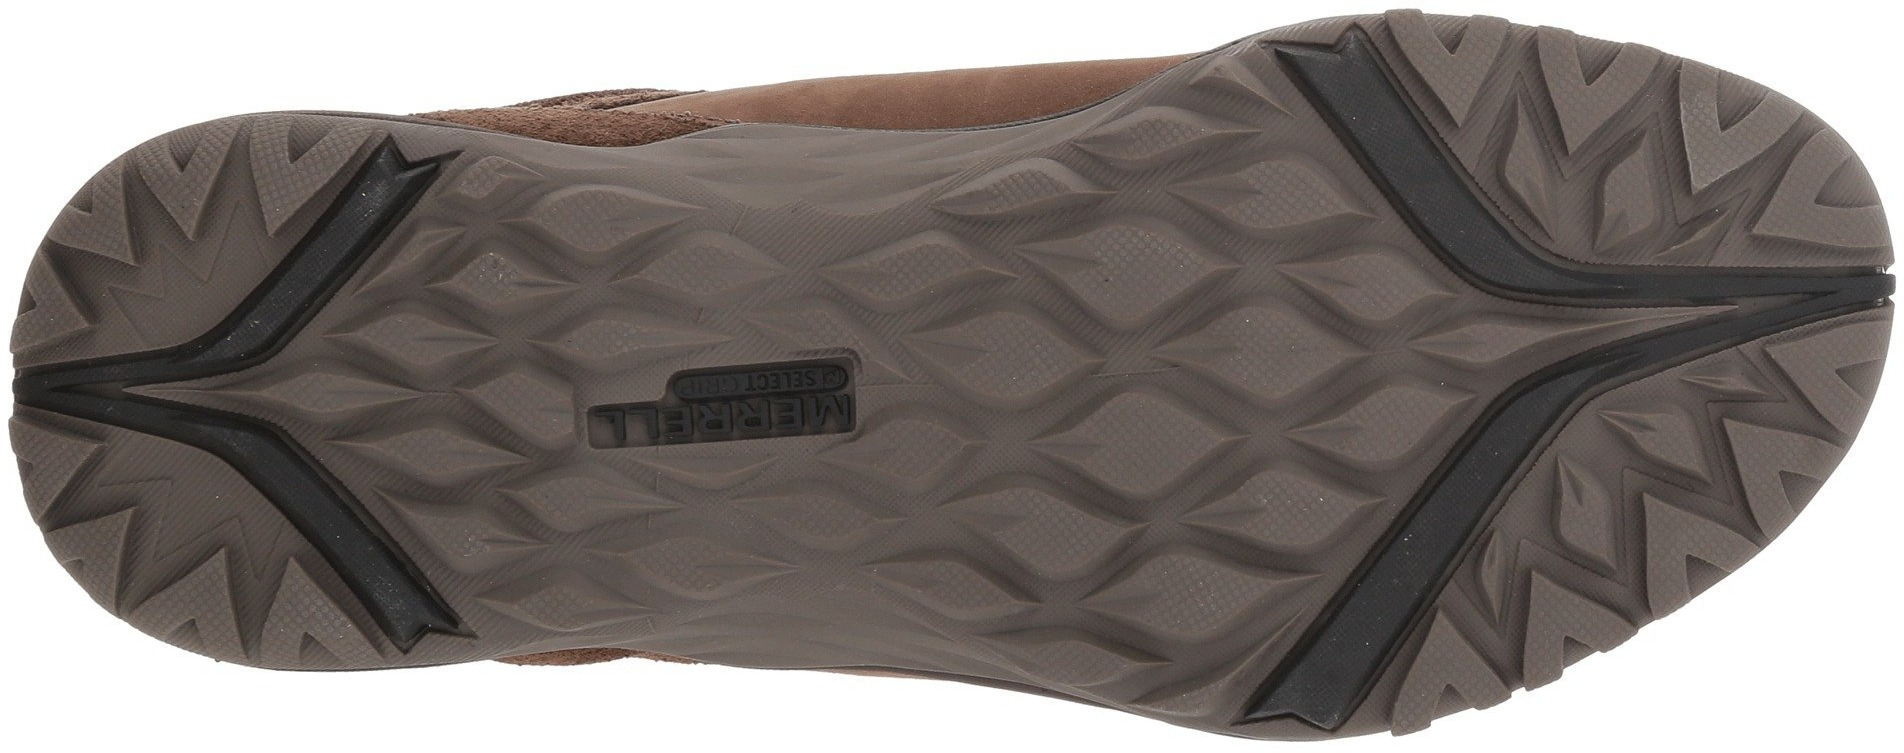chevron: (1523, 40, 1667, 172), (234, 125, 372, 248)
exclude: (246, 615, 1164, 752)
quad: (928, 181, 1367, 579), (336, 279, 580, 494)
ribbon: (1419, 180, 1730, 472), (98, 273, 338, 503), (1264, 516, 1468, 709)
text: (658, 352, 773, 455), (771, 361, 856, 438), (586, 387, 662, 459)
